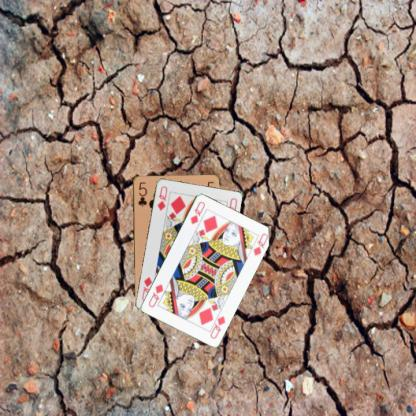5c: (135, 180, 148, 207)
Qd: (206, 309, 226, 340), (188, 199, 206, 225), (155, 183, 168, 212)
